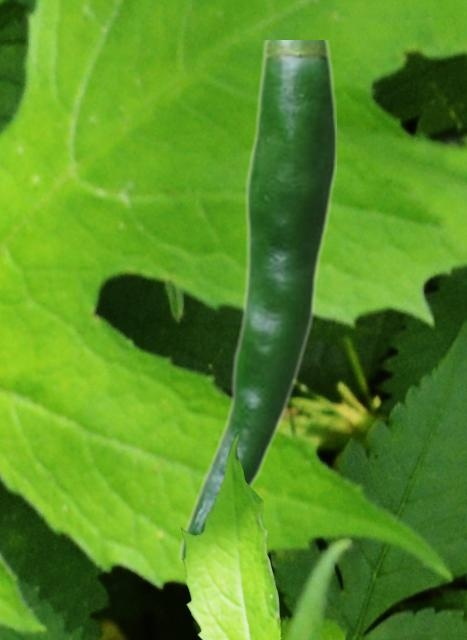green_chili: (177, 40, 335, 562)
